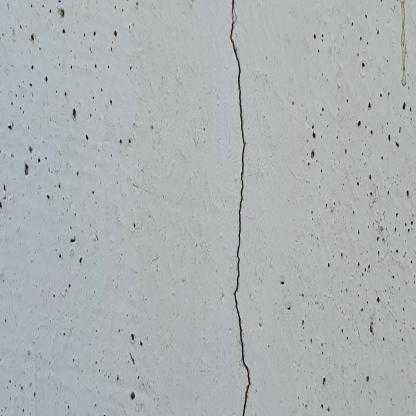crack: (230, 1, 250, 415)
